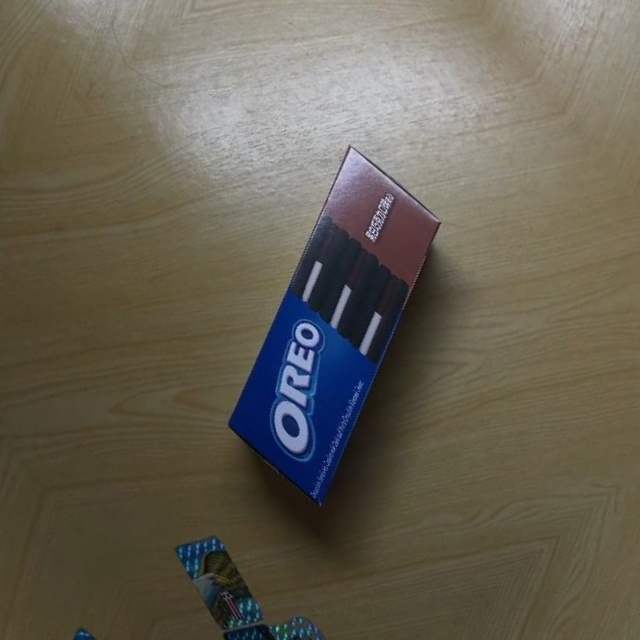Oreo: (137, 131, 538, 528)
